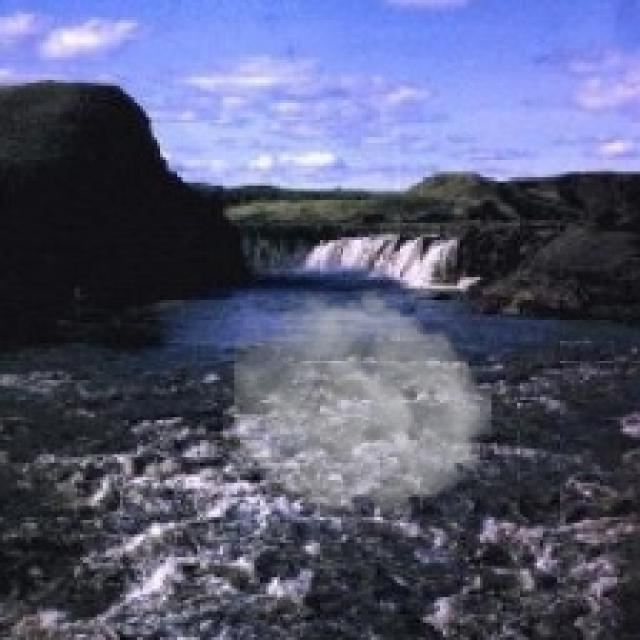Smoke: (234, 283, 492, 526)
